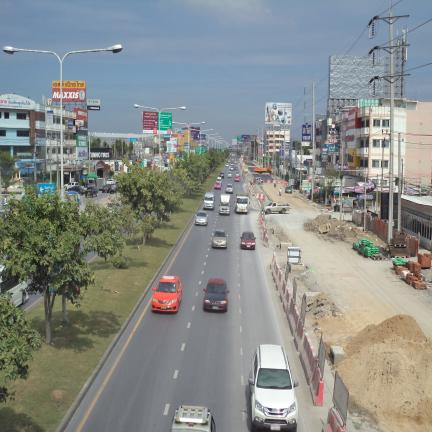car: (248, 344, 298, 432), (170, 405, 216, 432), (203, 278, 229, 311), (0, 277, 28, 306), (212, 229, 228, 248), (240, 231, 256, 249), (195, 211, 208, 226), (68, 185, 85, 195), (85, 184, 98, 197), (64, 181, 79, 191), (107, 202, 120, 211), (108, 182, 118, 193), (250, 177, 264, 184), (101, 183, 110, 193), (106, 178, 117, 185), (225, 184, 233, 193), (214, 181, 221, 189), (285, 186, 292, 193), (216, 176, 222, 182), (234, 176, 240, 182), (219, 172, 224, 178), (227, 172, 232, 178), (230, 165, 234, 171), (234, 165, 238, 170), (235, 172, 240, 176), (0, 266, 4, 271), (225, 163, 229, 166)
motorbike: (279, 189, 282, 196), (274, 183, 276, 188)
pickup: (264, 202, 290, 214)
taxi: (152, 276, 182, 312), (234, 175, 240, 182)
truck: (235, 193, 249, 213), (219, 194, 230, 215), (254, 165, 272, 174)
van: (0, 278, 28, 306), (203, 192, 214, 210), (216, 176, 222, 182), (0, 266, 4, 271)
